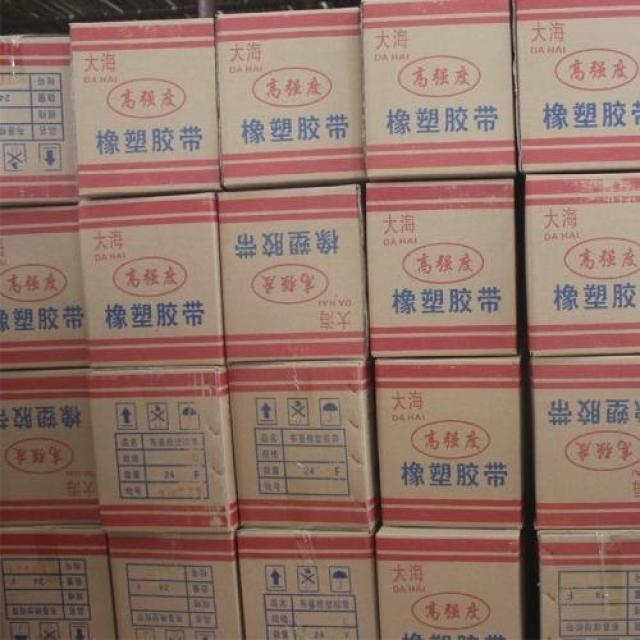box: (358, 0, 516, 183), (219, 180, 370, 365), (216, 9, 366, 191), (365, 178, 516, 358), (68, 19, 221, 196), (78, 189, 227, 367), (225, 360, 380, 531), (372, 355, 522, 530), (86, 366, 241, 534), (512, 0, 640, 173), (526, 173, 640, 358), (530, 353, 640, 529), (375, 527, 524, 640), (237, 527, 379, 640), (0, 369, 100, 525), (106, 534, 244, 640), (0, 205, 88, 367), (0, 525, 118, 640), (0, 33, 78, 206), (539, 529, 640, 640)
